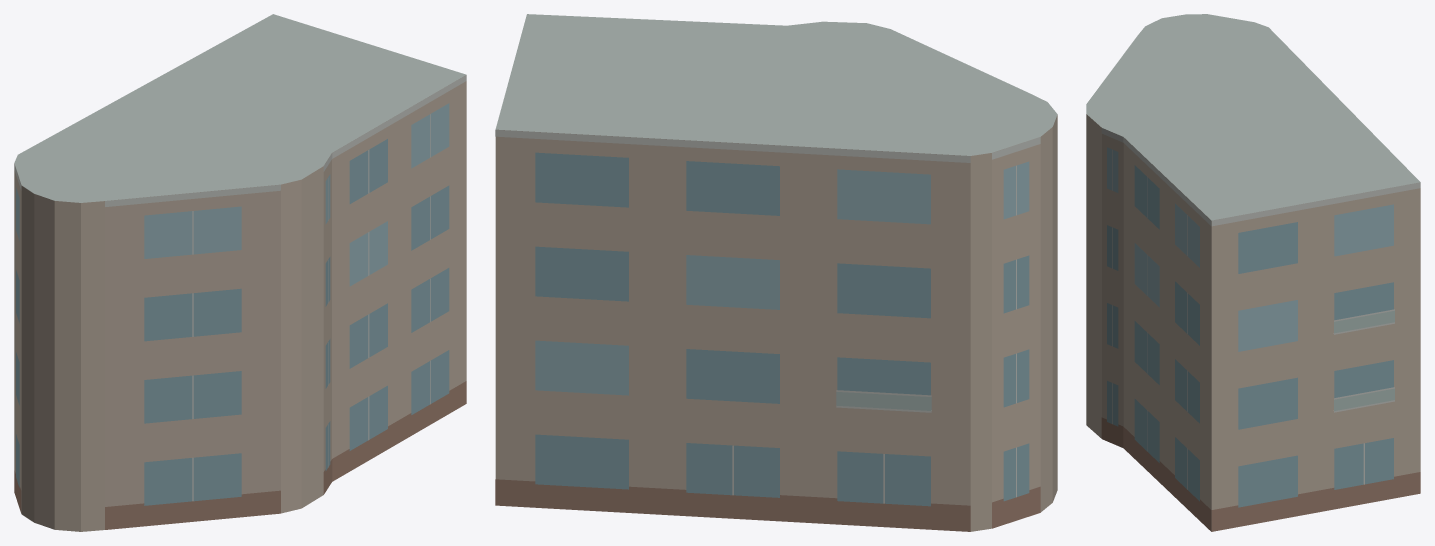
The model's file is survey-upis-32838183.glb.
The picture shows the model from 3 angles, left to right: view 1: azimuth 30°, elevation 25°; view 2: azimuth 150°, elevation 25°; view 3: azimuth 270°, elevation 25°; orthographic projection. The views are drawn at different scales.
Parts seen in each view (by area): view 1: survey-upis-32838183.tmp; view 2: survey-upis-32838183.tmp; view 3: survey-upis-32838183.tmp.
Boxes of the visible parts, bbox=[...] form: survey-upis-32838183.tmp: bbox=[14, 14, 466, 531]; survey-upis-32838183.tmp: bbox=[495, 14, 1057, 531]; survey-upis-32838183.tmp: bbox=[1086, 14, 1420, 531].
Size of the model in its own units: 18.51 by 13 by 12.67.
